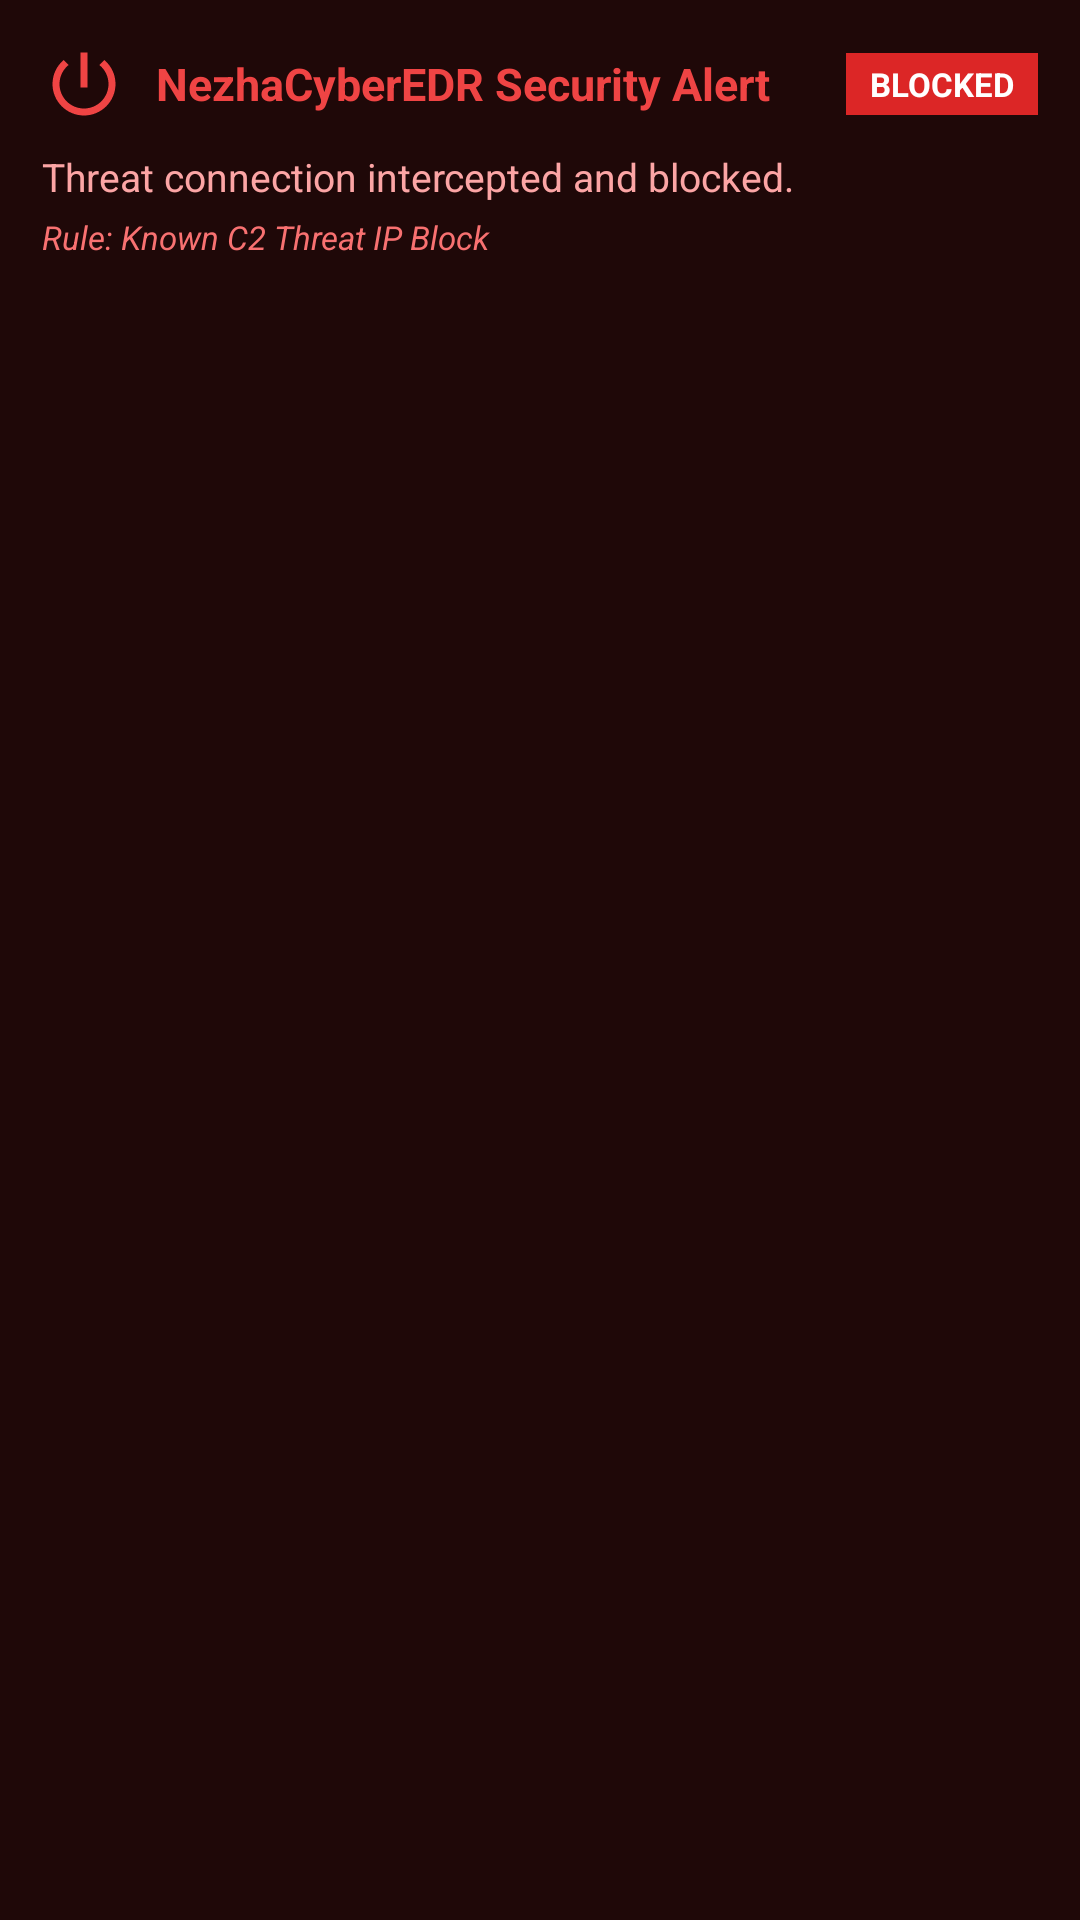

Named icons in this screenshot (1080x1920) and their centers, (x=x, y=y):
power: (x=84, y=84)
